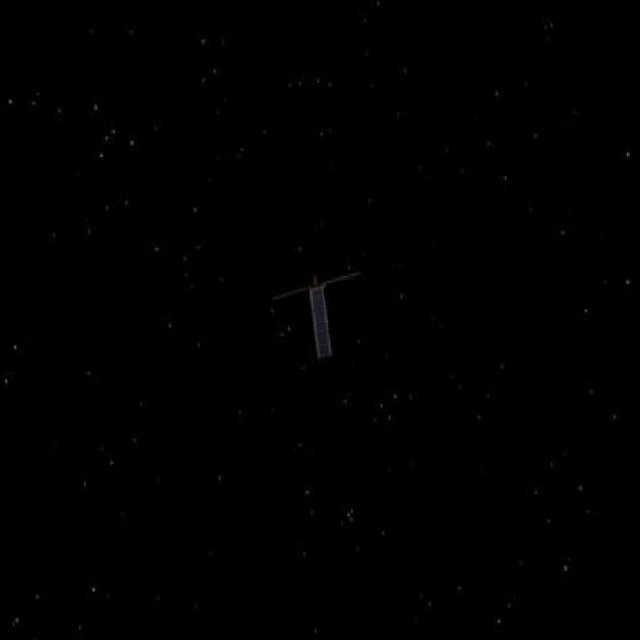medium_debris: (258, 259, 366, 365)
